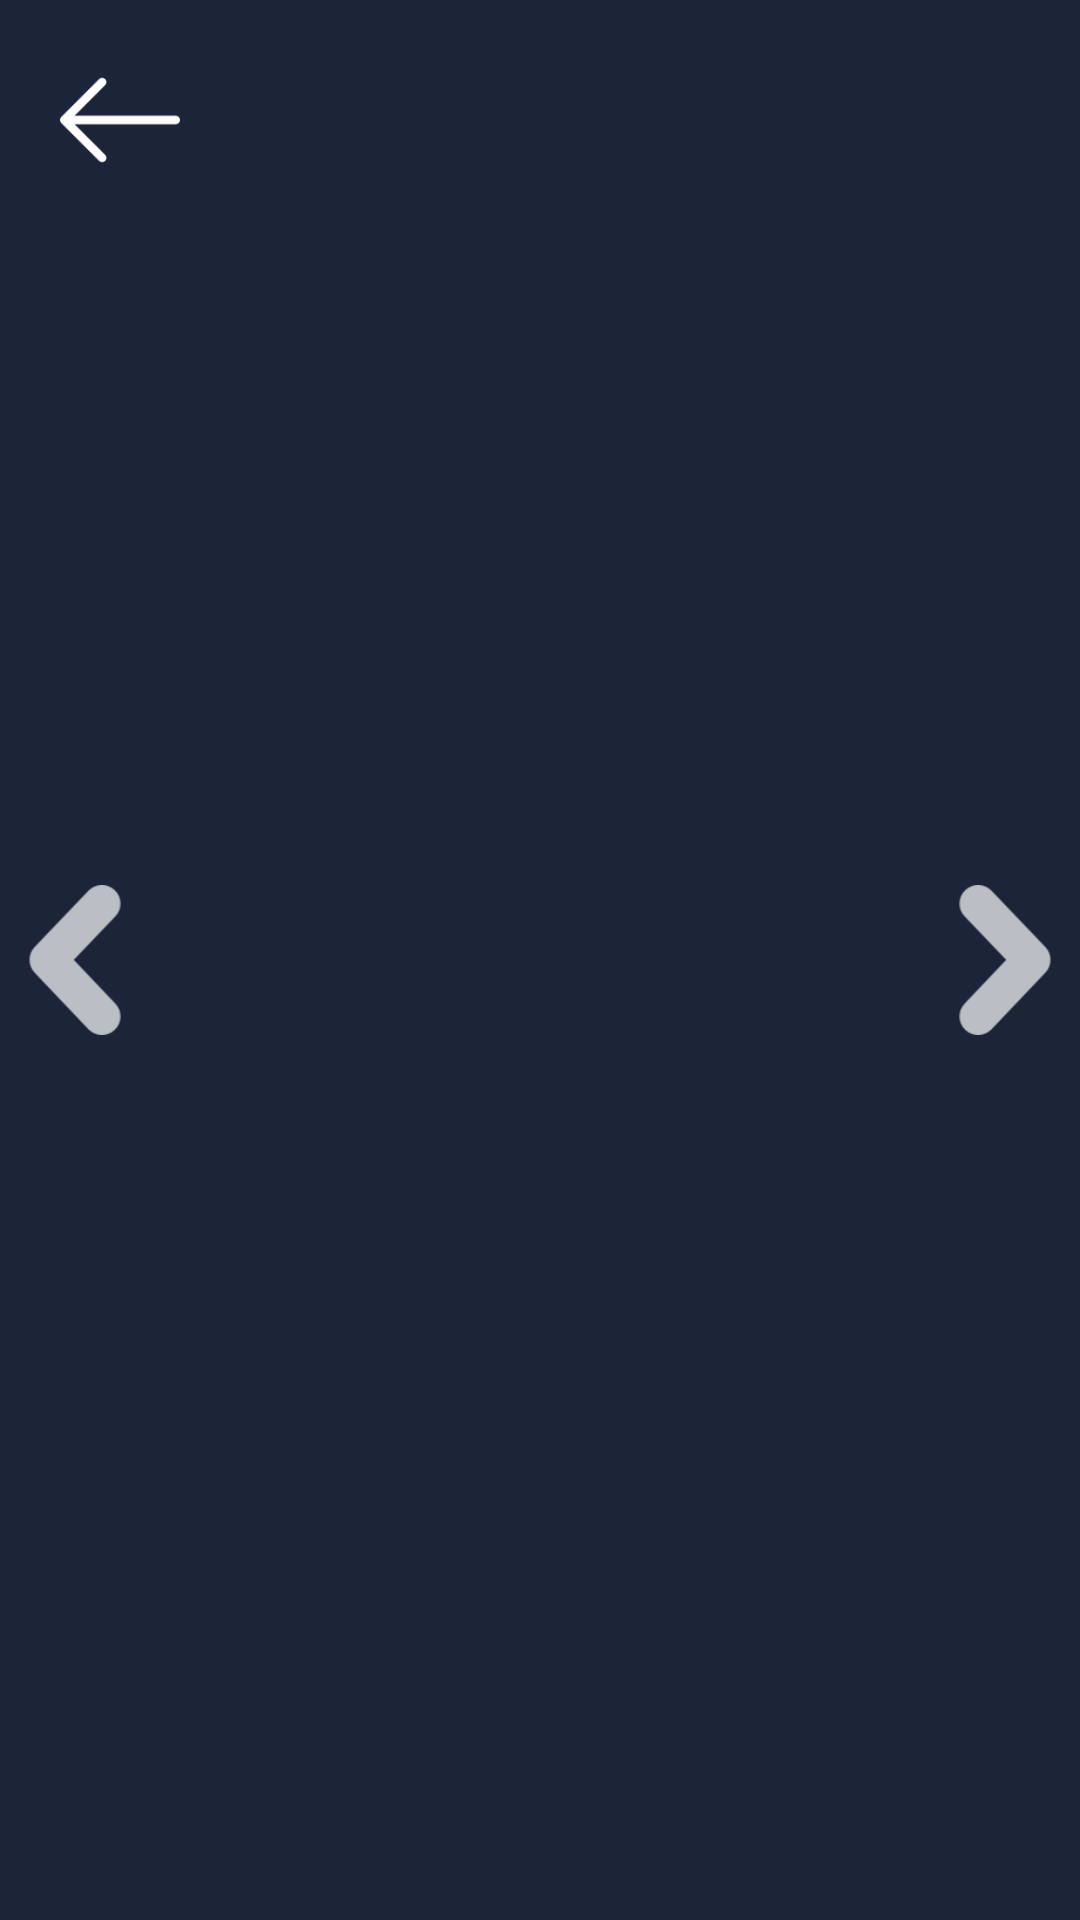

Screen size 1080 x 1920. Icon name, then its center in pixels as [x,y]:
back arrow: [120,120]
move to left: [75,960]
move to right: [1005,960]
